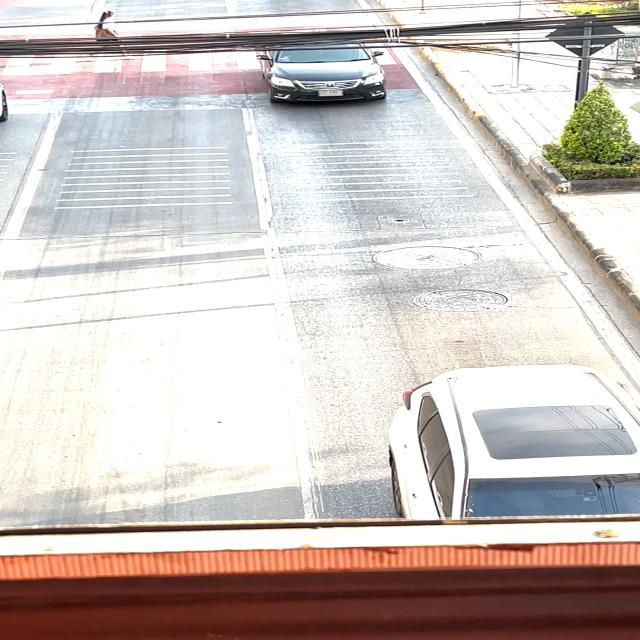car: (383, 347, 640, 518), (243, 25, 404, 110)
